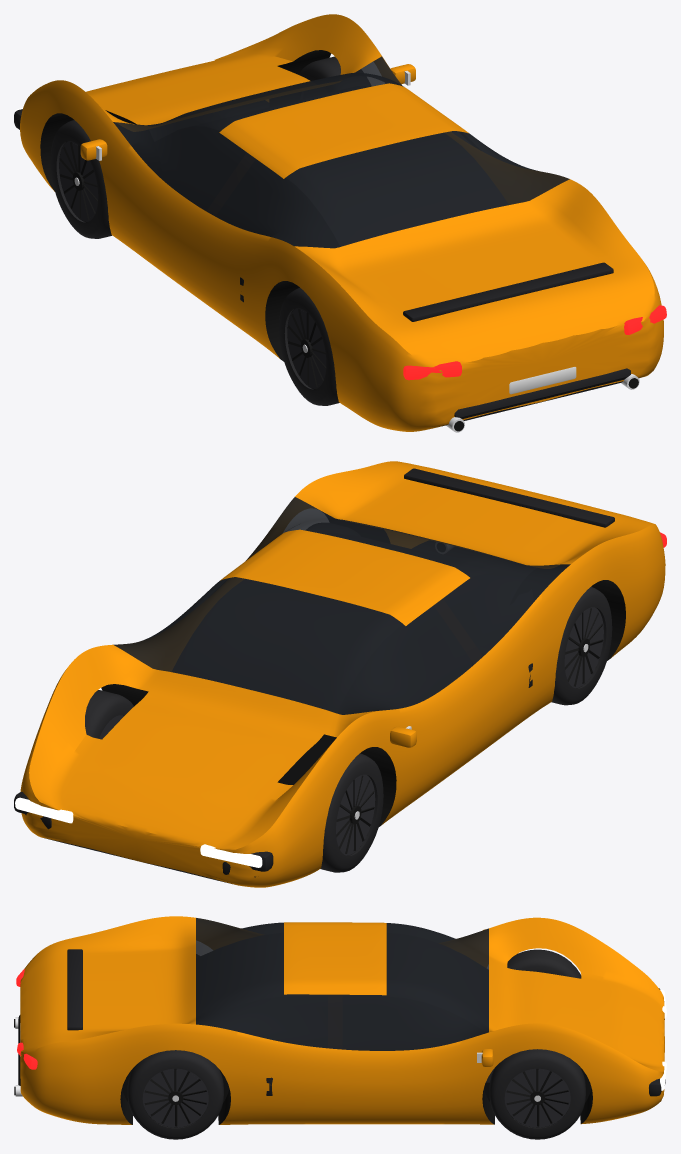
The model's file is lamborghini_revuelto.glb.
3 renders of one model, top to bottom at view 1: azimuth 30°, elevation 25°; view 2: azimuth 150°, elevation 25°; view 3: azimuth 270°, elevation 25°, orthographic. The views are drawn at different scales.
Visible parts, largest first — view 1: Body, Wheel_RL, Wheel_FL, Wheel_FR; view 2: Body, Wheel_FL, Wheel_RL, Wheel_FR; view 3: Body, Wheel_FR, Wheel_RR, Wheel_FL.
Boxes of the visible parts, <box> form: Body: <box>14,14,666,432</box>; Wheel_RL: <box>279,288,339,405</box>; Wheel_FL: <box>50,120,111,238</box>; Wheel_FR: <box>299,56,340,80</box>; Body: <box>14,461,666,887</box>; Wheel_FL: <box>320,753,383,872</box>; Wheel_RL: <box>551,587,612,705</box>; Wheel_FR: <box>85,690,133,739</box>; Body: <box>14,916,666,1124</box>; Wheel_FR: <box>489,1049,585,1139</box>; Wheel_RR: <box>127,1050,223,1139</box>; Wheel_FL: <box>507,949,581,978</box>.
Bounding box in the file's own units: 2.33 × 1.16 × 5.02.
